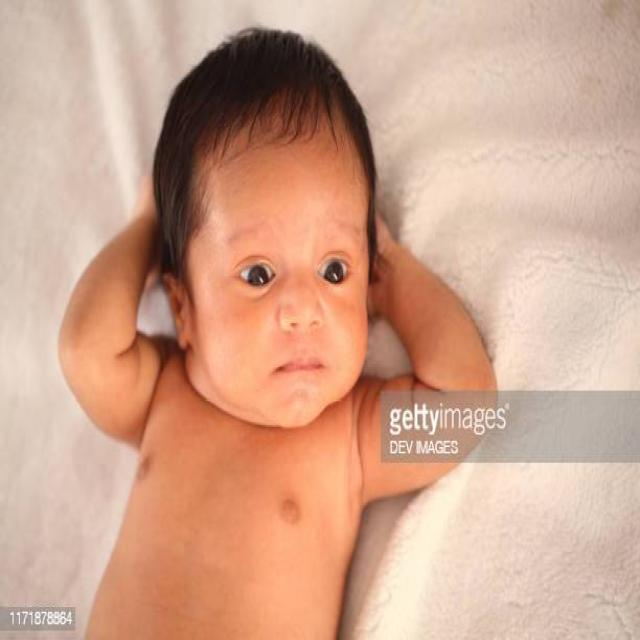non-dog: (53, 25, 500, 640)
